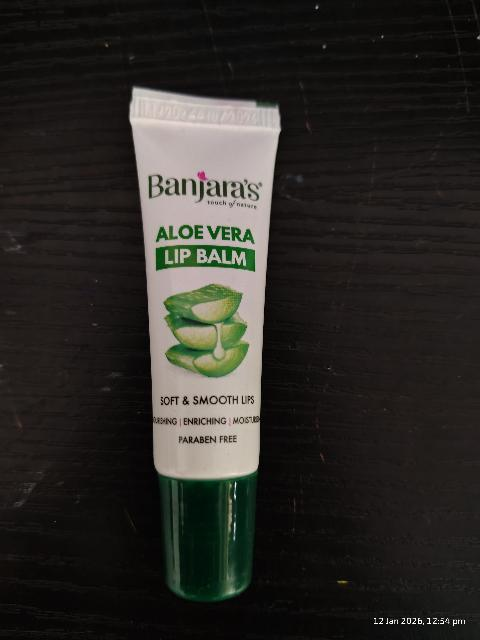banjaras lipbam: (122, 85, 291, 606)
